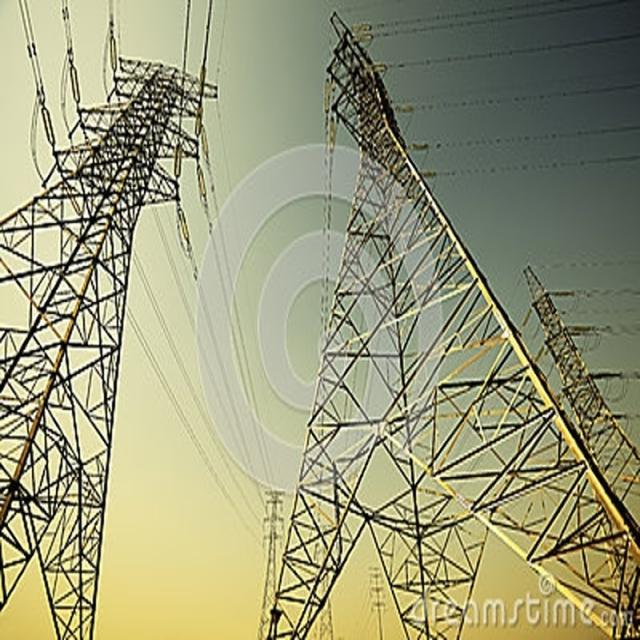non-critical vegetation: (269, 12, 636, 632), (0, 26, 233, 633)
